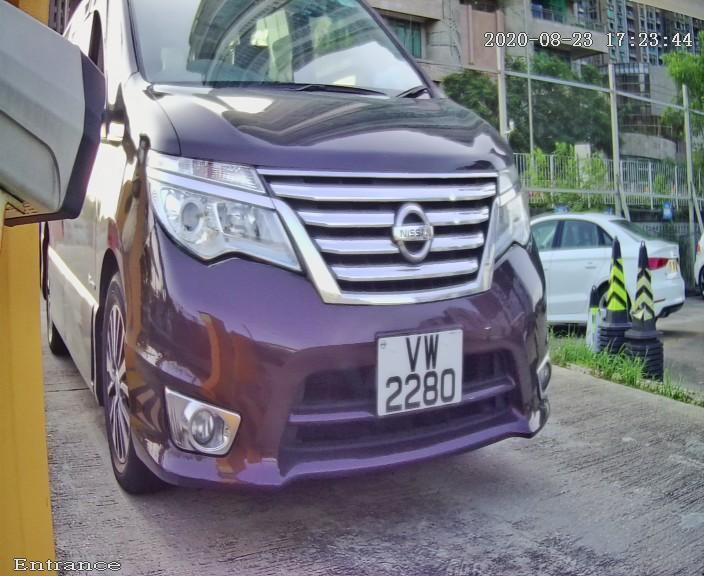Car: (51, 6, 582, 528)
License Plate: (368, 319, 469, 427)
